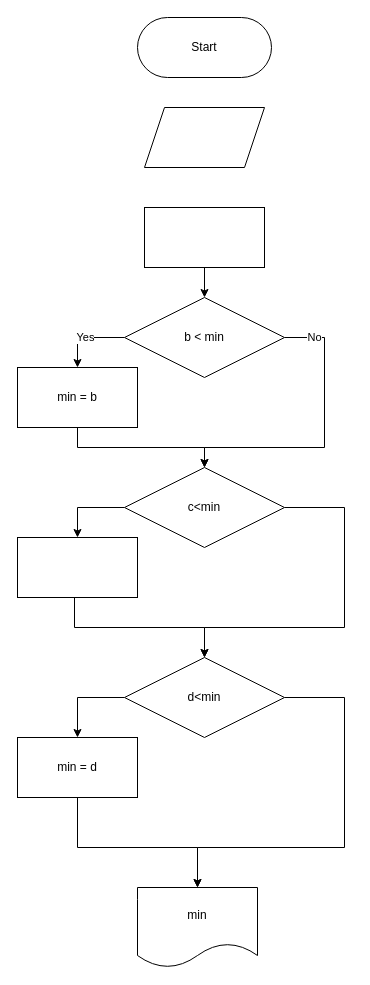
This 370x985 diagram has some shape labels left out. The centre of each missing label's shape, as x and y in pixels:
a, b, c, d: the point at 204,137
min = a: the point at 204,237
min = c: the point at 77,567
